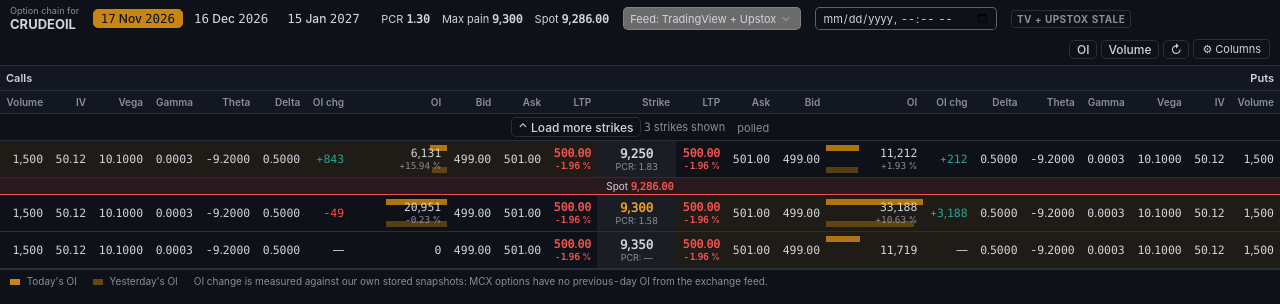
Test: switching the bars to volume drops the OI baseline from the legend
The width and height of the screenshot is (1280, 304).
expect the text "9,250" is shown: met, box top-left (620, 146), bottom-right (653, 161)
Click the button with aria-label "Show volume bars" at (1130, 49), box top-left (1101, 40), bottom-right (1159, 59)
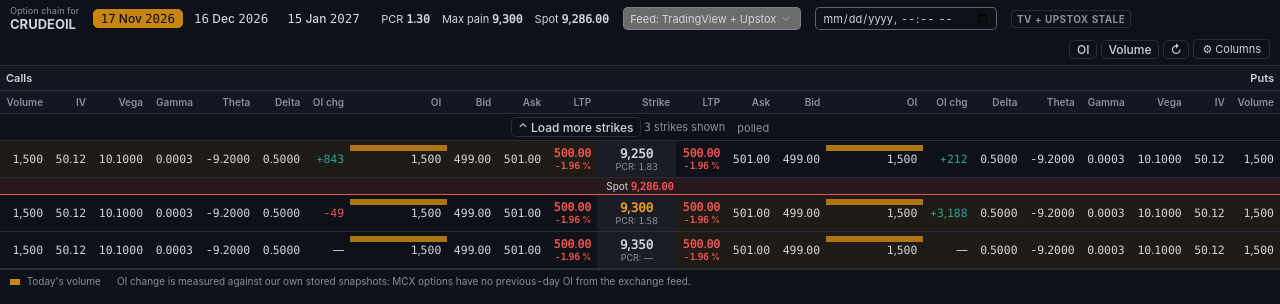
expect the text "Today's volume" is shown: met, box top-left (10, 275), bottom-right (101, 287)
expect the text "Yesterday's OI" is gone: met
